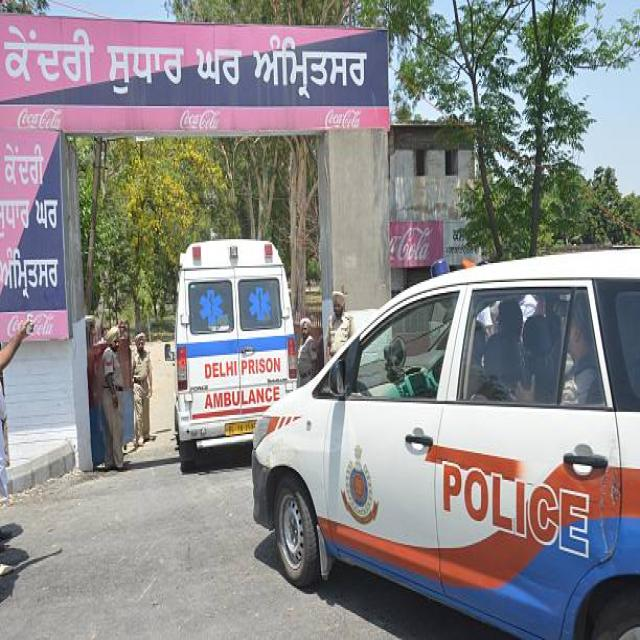ambulance: (173, 235, 296, 454)
